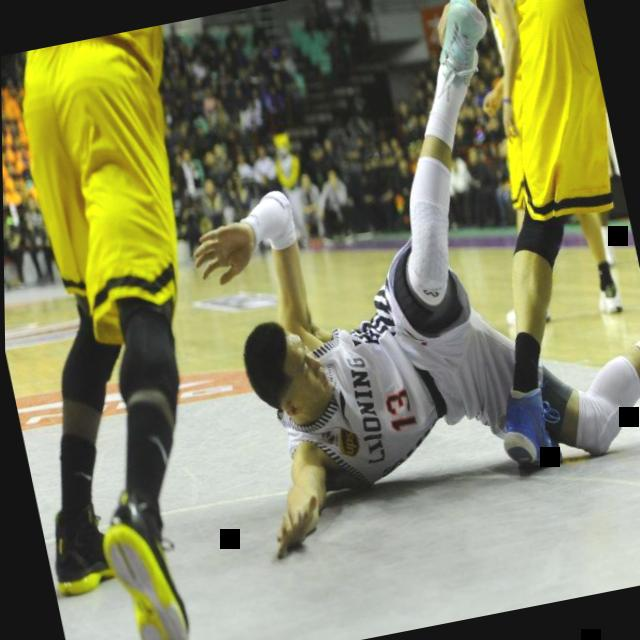Fall-Detected: (141, 0, 640, 578)
